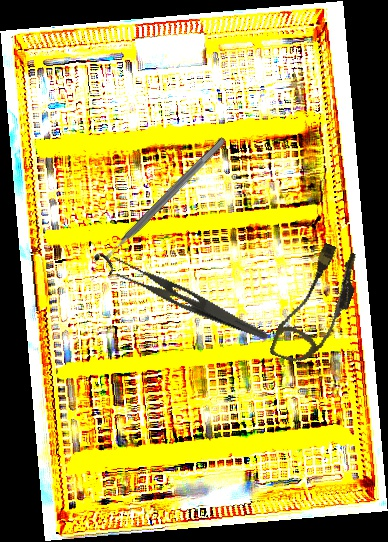Cannula: (268, 237, 367, 374)
Dressing Forceps: (103, 253, 277, 342)
Fixation Ring: (90, 129, 235, 278)
